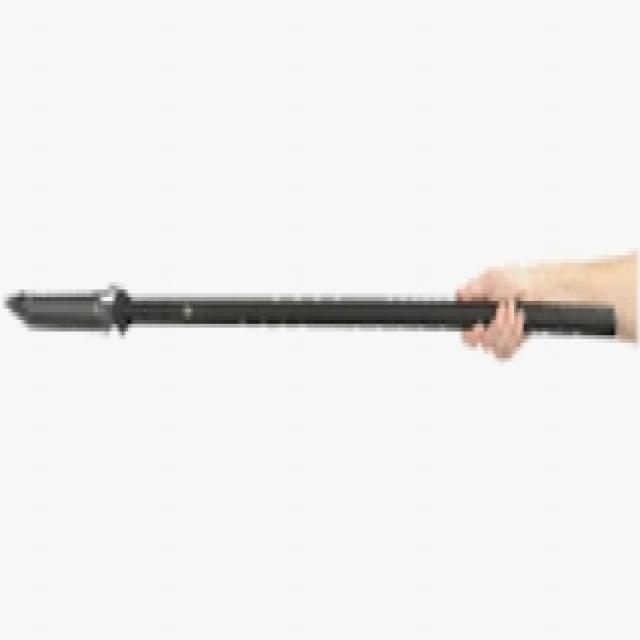spear: (2, 255, 623, 382)
